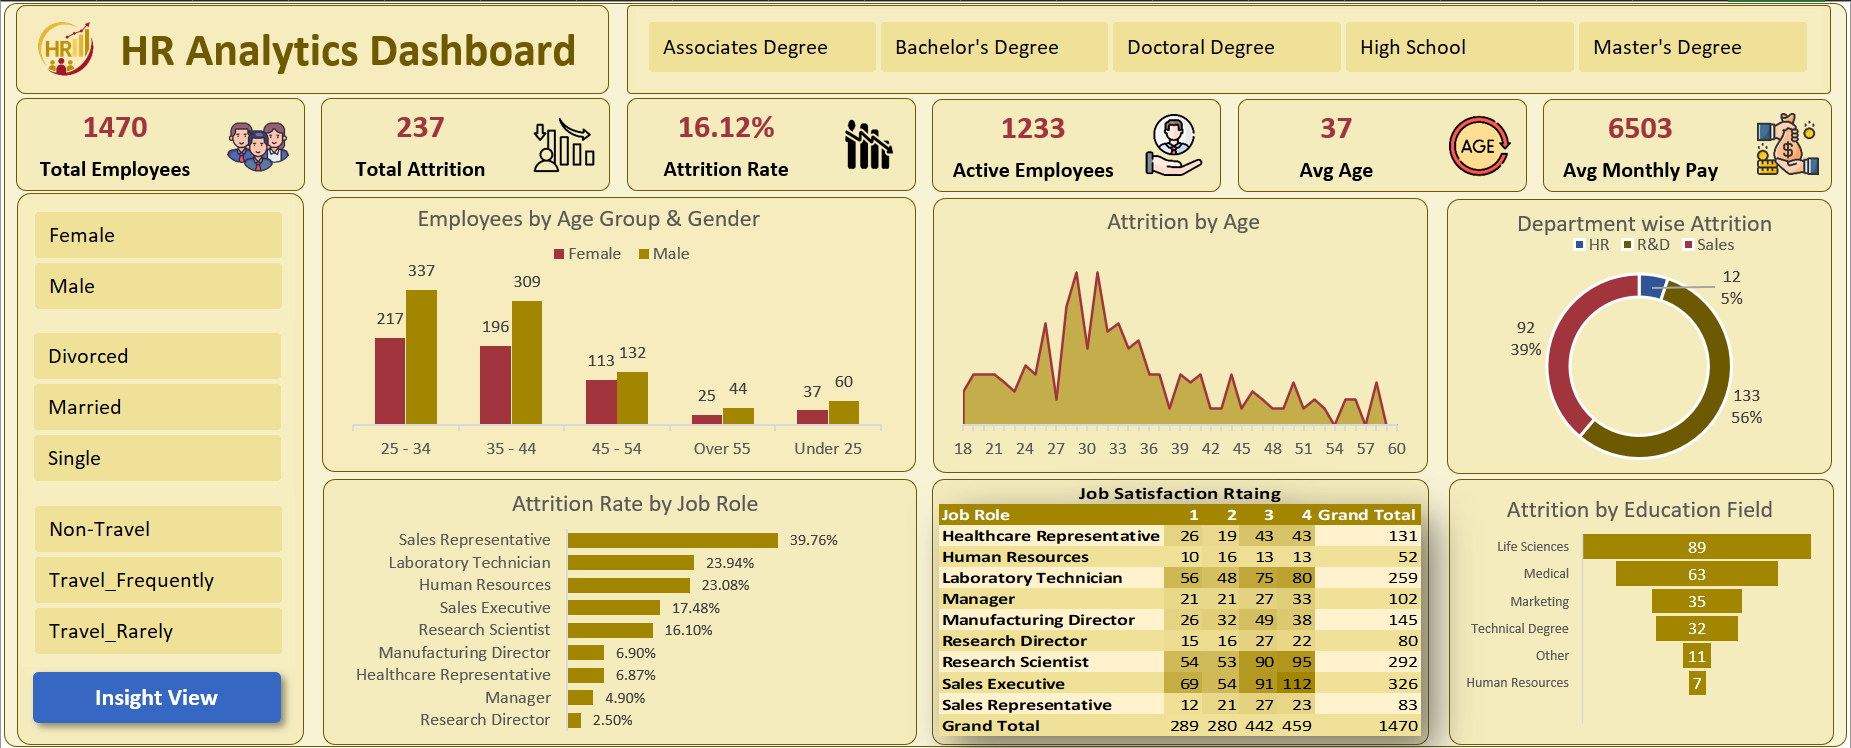

What the dashboard file says about the page in this screenshot:
{"tool":"powerbi","page":{"name":"HR Analytics","canvas":[3300,1800],"ordinal":0},"visuals":[{"type":"cardVisual","fields":{"Data":["HR Data.Total Employees","HR Data.Total Attrition","HR Data.Attrition Rate","HR Data.Active Employee","HR Data.Avg. Age","HR Data.Avg Monthly Pay"]},"box":[0,222.6,3291.1,283.4],"z":0},{"type":"clusteredColumnChart","title":"Employees by Age Group & Gender","fields":{"Category":["HR Data.Age Group"],"Y":["HR Data.Total Employees"],"Series":["HR Data.Gender"]},"box":[570.8,493.9,999.9,659.8],"z":1000},{"type":"areaChart","title":"Attrition by Age","fields":{"Category":["HR Data.Age"],"Y":["HR Data.Total Attrition"]},"box":[1578.7,493.9,898.7,659.8],"z":2000},{"type":"donutChart","title":"Department wise Attrition","fields":{"Category":["HR Data.Department"],"Y":["HR Data.Total Attrition"]},"box":[2489.6,493.9,789.4,659.8],"z":3000},{"type":"clusteredBarChart","fields":{"Category":["HR Data.Job Role"],"Y":["HR Data.Attrition Rate"]},"box":[570.8,1161.8,999.9,627.5],"z":4000},{"type":"pivotTable","title":"Job Satisfaction Rating","fields":{"Rows":["HR Data.Job Role"],"Columns":["HR Data.Job Satisfaction"],"Values":["HR Data.Total Employees"]},"box":[1578.7,1161.8,898.7,627.5],"z":5000},{"type":"funnel","title":"Attrition by Education Field","fields":{"Category":["HR Data.Education Field"],"Y":["HR Data.Total Attrition"]},"box":[2489.6,1161.8,789.4,627.5],"z":6000},{"type":"advancedSlicerVisual","fields":{"Values":["HR Data.Gender"]},"box":[32.4,493.9,510.1,295.5],"z":7000},{"type":"advancedSlicerVisual","fields":{"Values":["HR Data.Marital Status"]},"box":[32.4,825.8,510.1,372.4],"z":8000},{"type":"advancedSlicerVisual","fields":{"Values":["HR Data.Business Travel"]},"box":[32.4,1238.7,510.1,372.4],"z":9000},{"type":"advancedSlicerVisual","fields":{"Values":["HR Data.Education"]},"box":[1113.2,40.5,2165.7,182.2],"z":10000},{"type":"textbox","box":[206.5,56.7,890.6,182.2],"z":11000},{"type":"actionButton","box":[38.5,1644.7,498.6,113.5],"z":12000},{"type":"image","box":[0,24.3,226.7,218.6],"z":13000}]}

Visuals, with their boxes on the page's 3300x1800 design canvas (x1, y1, x2, y2). These are canvas units, not pixel positions in the 1851x748 screenshot, which may show the page scaled, cropped or inside an application window:
cardVisual - HR Data.Total Employees x HR Data.Total Attrition: (0, 223, 3291, 506)
"Employees by Age Group & Gender" clusteredColumnChart: (571, 494, 1571, 1154)
"Attrition by Age" areaChart: (1579, 494, 2477, 1154)
"Department wise Attrition" donutChart: (2490, 494, 3279, 1154)
clusteredBarChart - HR Data.Job Role x HR Data.Attrition Rate: (571, 1162, 1571, 1789)
"Job Satisfaction Rating" pivotTable: (1579, 1162, 2477, 1789)
"Attrition by Education Field" funnel: (2490, 1162, 3279, 1789)
advancedSlicerVisual - HR Data.Gender: (32, 494, 542, 789)
advancedSlicerVisual - HR Data.Marital Status: (32, 826, 542, 1198)
advancedSlicerVisual - HR Data.Business Travel: (32, 1239, 542, 1611)
advancedSlicerVisual - HR Data.Education: (1113, 40, 3279, 223)
textbox: (206, 57, 1097, 239)
actionButton: (38, 1645, 537, 1758)
image: (0, 24, 227, 243)
